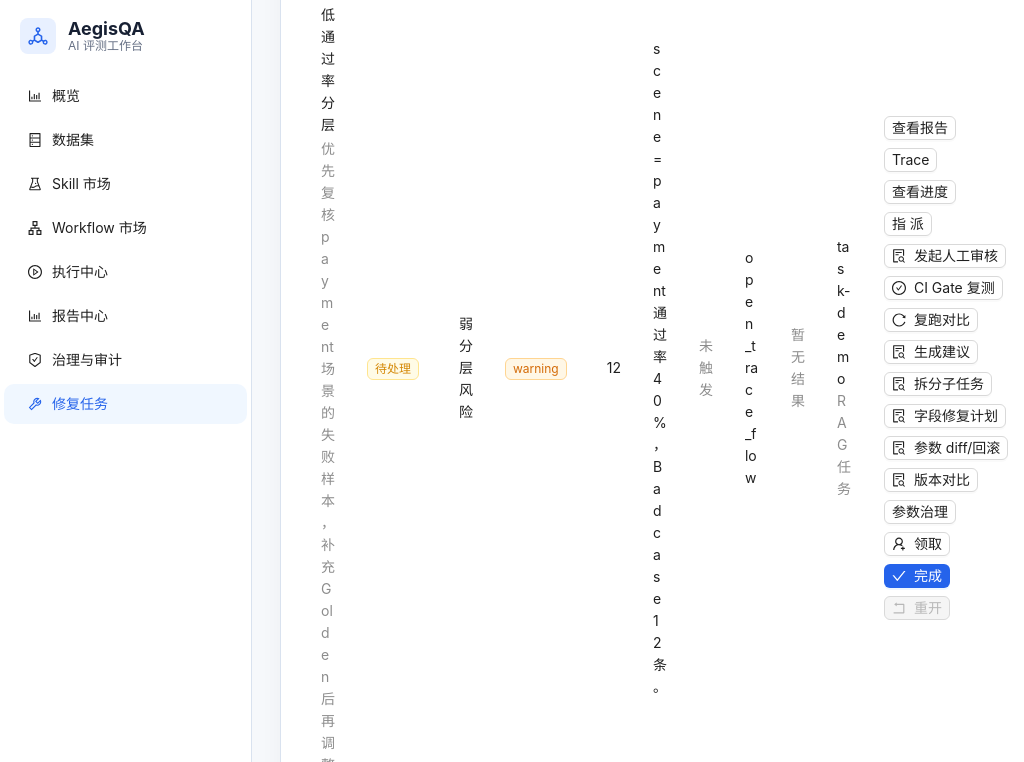
Scenario: 修复任务工作台 › 修复任务工作台支持把建议拆成可追踪子任务
(page scrolled)
Click the button "拆分子任务" at (938, 384), box [884,372,992,396]
(page scrolled)
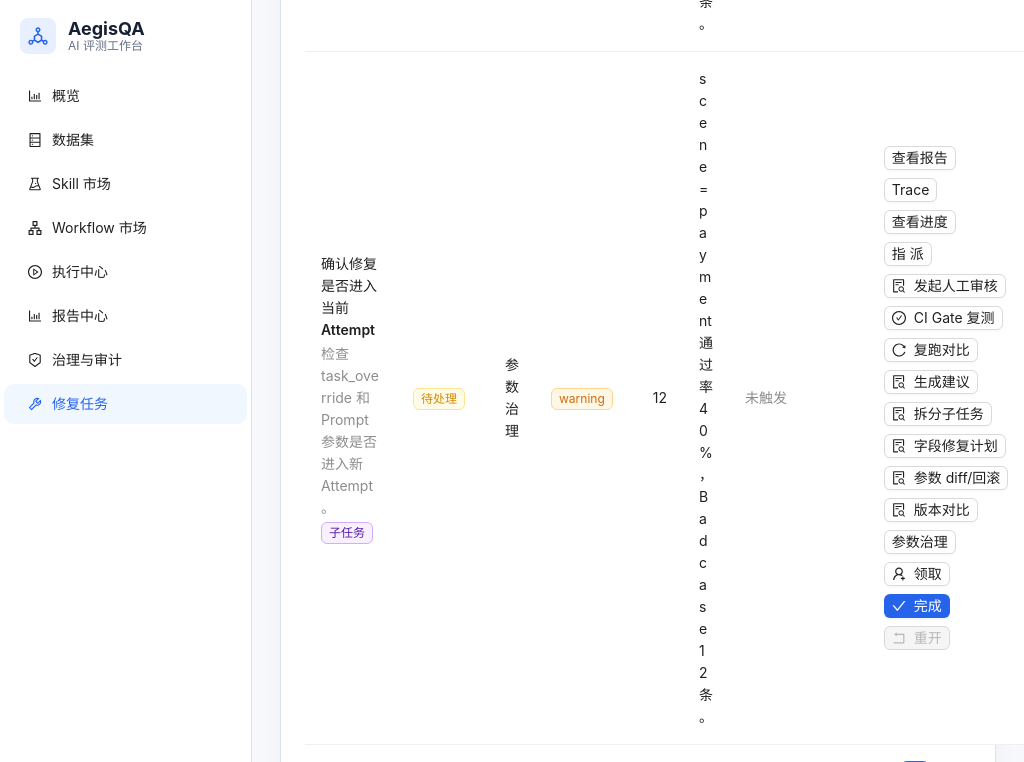
Expected: the text "确认修复是否进入当前 Attempt" is shown, [321,254,377,338]
